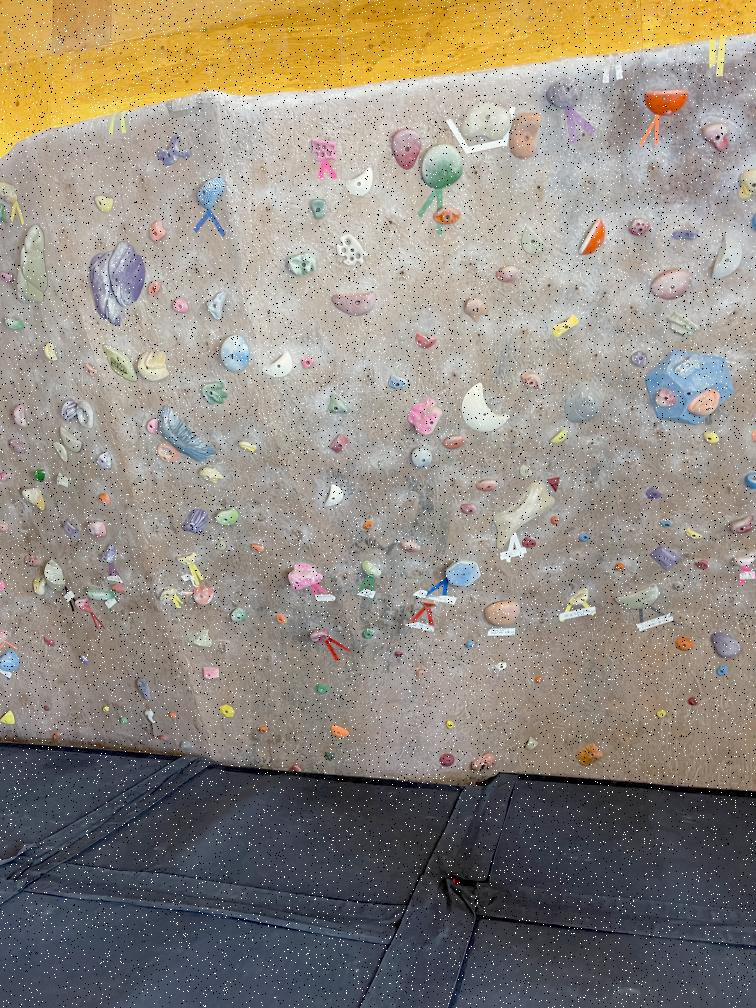Crimp: (458, 381, 514, 434), (710, 224, 745, 283), (330, 291, 378, 321), (613, 584, 660, 612), (519, 222, 550, 258), (260, 350, 296, 378), (345, 165, 376, 197), (668, 309, 702, 338), (19, 484, 47, 514), (321, 480, 344, 513), (326, 390, 351, 418), (59, 425, 83, 454), (674, 354, 702, 378), (547, 425, 575, 447), (414, 330, 439, 352), (170, 292, 191, 317), (455, 499, 482, 518), (98, 543, 120, 566), (96, 448, 114, 474), (672, 228, 701, 244), (700, 427, 722, 447), (51, 441, 68, 466), (42, 339, 59, 362), (694, 555, 714, 572), (644, 484, 662, 502), (518, 461, 535, 479), (685, 526, 703, 543), (82, 361, 98, 379), (419, 600, 439, 612), (250, 540, 266, 554), (212, 539, 228, 552)
Edges: (86, 234, 148, 330), (489, 476, 555, 553), (156, 403, 222, 465), (13, 218, 52, 308), (562, 381, 606, 424), (181, 503, 209, 538), (43, 557, 66, 594), (60, 398, 77, 424)
Foothold: (570, 739, 610, 771), (467, 752, 497, 772), (134, 676, 154, 703), (673, 638, 698, 654), (330, 723, 351, 740), (215, 704, 237, 720), (519, 534, 537, 553), (547, 476, 562, 495), (524, 735, 540, 752), (362, 624, 378, 640), (40, 633, 56, 648), (301, 355, 316, 371), (275, 612, 289, 629), (438, 752, 455, 766), (413, 668, 428, 683), (76, 652, 92, 666), (314, 683, 333, 694), (660, 517, 675, 530), (576, 530, 592, 542), (111, 582, 127, 594), (142, 709, 155, 723), (715, 664, 728, 678), (392, 648, 406, 660), (494, 660, 508, 672), (685, 696, 700, 707), (362, 519, 375, 531), (549, 514, 561, 526), (116, 716, 130, 726), (178, 741, 193, 750), (51, 731, 66, 740), (614, 563, 628, 572), (324, 751, 336, 761), (168, 711, 180, 721), (445, 720, 456, 730), (159, 734, 171, 743), (673, 582, 685, 591), (256, 725, 271, 732), (655, 710, 667, 718), (464, 641, 476, 649), (100, 706, 112, 712), (534, 677, 543, 684), (41, 705, 50, 712)
Jug: (460, 102, 512, 142), (420, 143, 466, 188), (509, 110, 542, 169), (648, 267, 699, 302), (440, 554, 484, 594), (100, 342, 138, 386), (642, 87, 689, 121), (692, 120, 735, 156), (388, 126, 422, 171), (404, 400, 445, 436), (482, 596, 524, 630), (219, 330, 251, 374), (577, 212, 606, 257), (136, 347, 171, 384), (708, 626, 742, 662), (284, 562, 325, 590), (461, 296, 489, 326), (87, 189, 117, 216), (519, 366, 546, 394), (493, 262, 523, 287), (409, 444, 437, 470), (434, 204, 467, 226), (199, 382, 227, 406), (627, 216, 654, 238), (387, 370, 411, 394), (226, 603, 250, 627), (725, 515, 755, 534), (214, 508, 241, 529), (189, 586, 219, 603), (307, 197, 329, 220), (654, 388, 676, 410), (85, 520, 109, 539), (629, 348, 649, 370), (307, 628, 331, 646), (197, 468, 227, 482), (442, 434, 466, 451), (474, 479, 500, 493), (30, 576, 49, 595), (174, 552, 198, 566), (732, 552, 756, 566), (73, 598, 93, 614), (158, 588, 178, 602), (400, 540, 422, 552), (238, 441, 258, 454), (30, 468, 46, 484)
Pinch: (333, 229, 369, 267), (153, 134, 192, 168), (306, 133, 341, 165), (646, 544, 682, 572), (550, 311, 583, 340), (284, 250, 318, 278), (205, 288, 229, 324), (356, 556, 385, 584), (9, 396, 30, 431), (327, 433, 352, 458), (147, 217, 170, 244), (60, 519, 84, 543), (567, 586, 591, 609), (82, 587, 116, 602), (2, 314, 28, 332), (199, 665, 224, 681), (147, 278, 164, 299), (144, 415, 159, 436), (53, 471, 70, 488)
Pocket: (76, 400, 96, 430), (156, 440, 179, 464)
Sloper: (543, 72, 586, 113), (195, 173, 226, 212), (687, 389, 725, 419), (188, 628, 214, 650), (7, 439, 29, 457), (21, 552, 41, 570), (94, 491, 115, 508)
